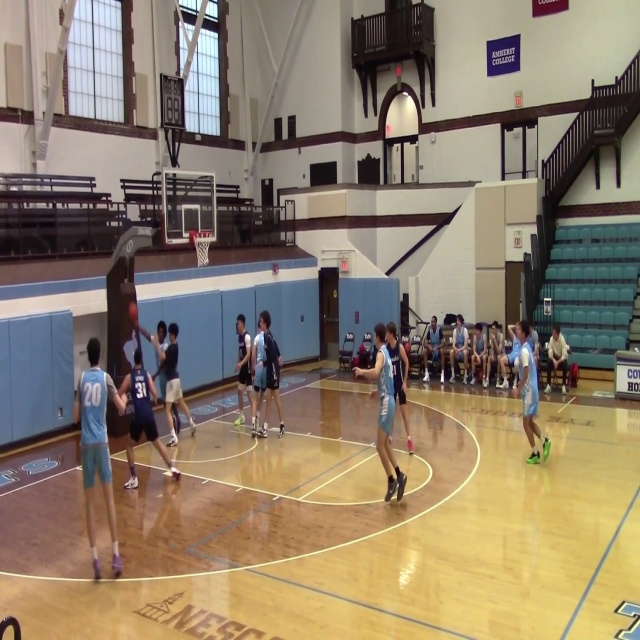Basketball: (128, 301, 138, 326)
